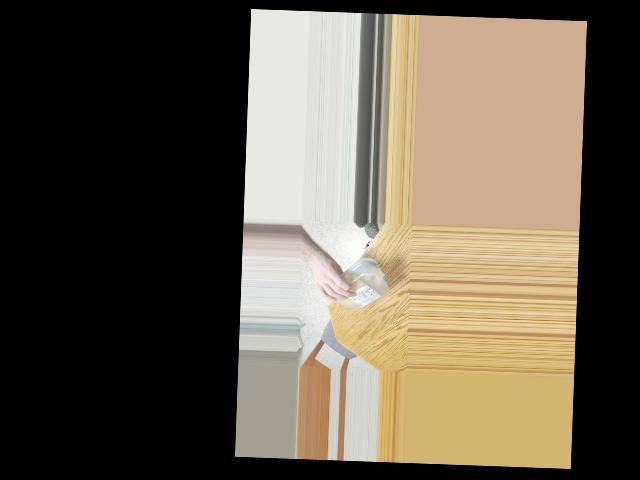cheese: (322, 259, 391, 312)
